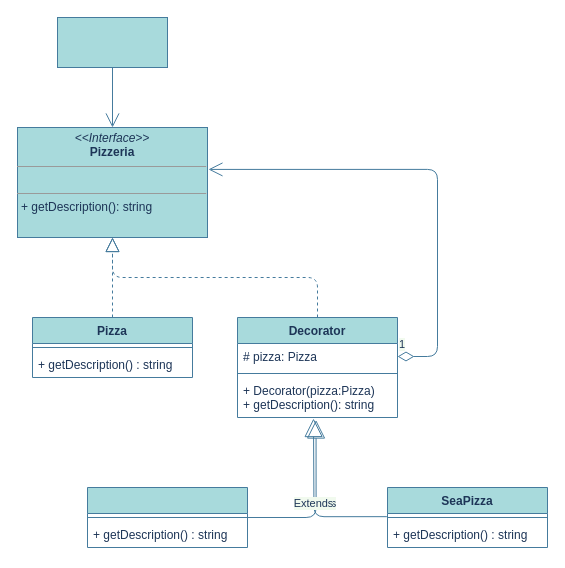
Some shapes in this 565 by 568 pixel diagram are drawn without their labels. The box of each missing label's shape, as (x1, y1, x2, y2) in pixels:
Client: (56, 16, 168, 68)
Pepperoni: (86, 486, 248, 548)
